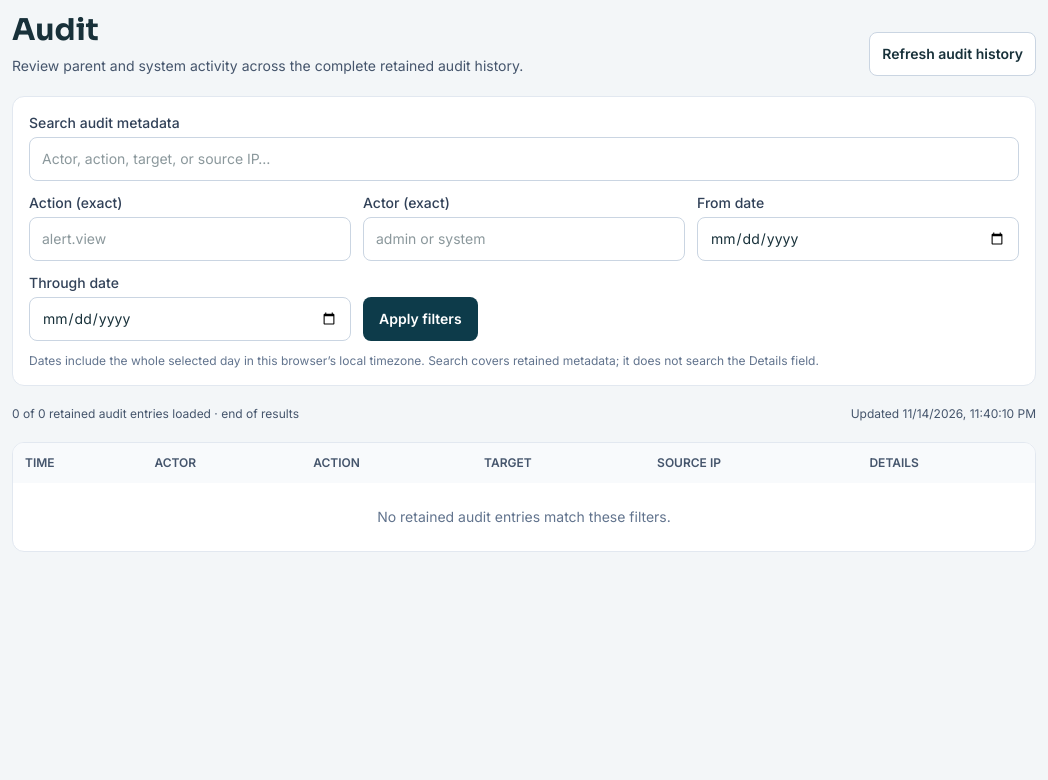
Test: complete audit history › never shows a late response from a superseded filter
Expected: the text "No retained audit entries match these filters." is shown, top-left (13, 483), bottom-right (1035, 551)
In the field labelled "Actor (exact)": (524, 239) top-left (363, 217), bottom-right (685, 261), type "old-actor"
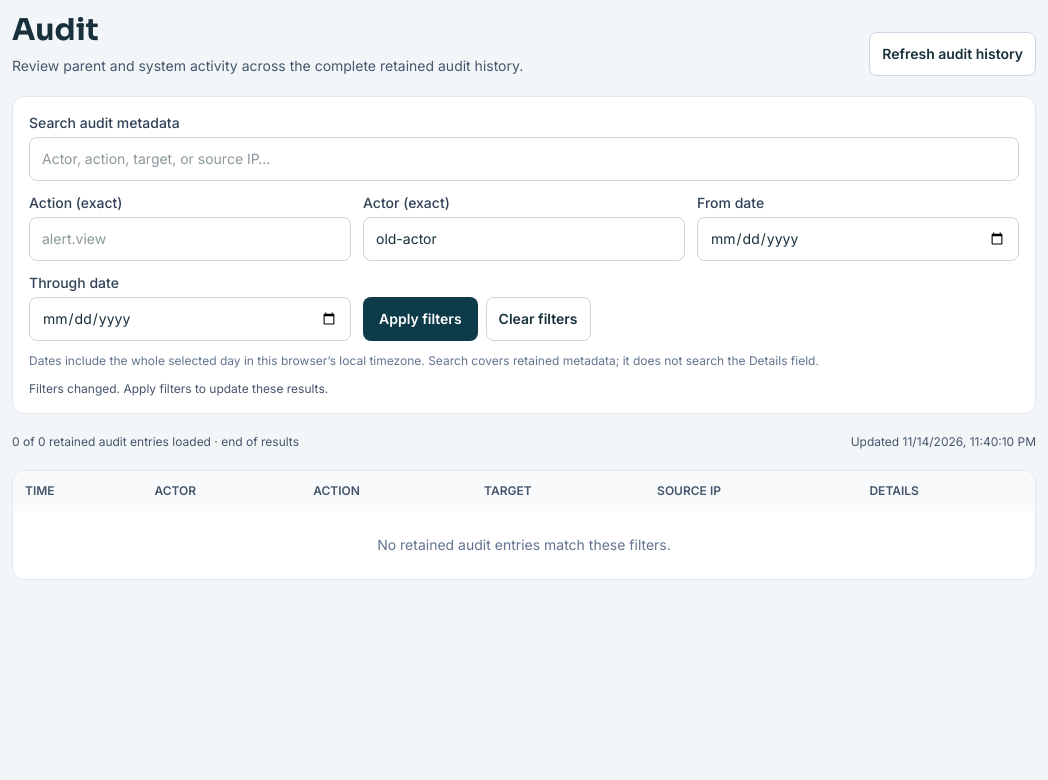
Click the button "Apply filters": (420, 319) top-left (363, 297), bottom-right (478, 341)
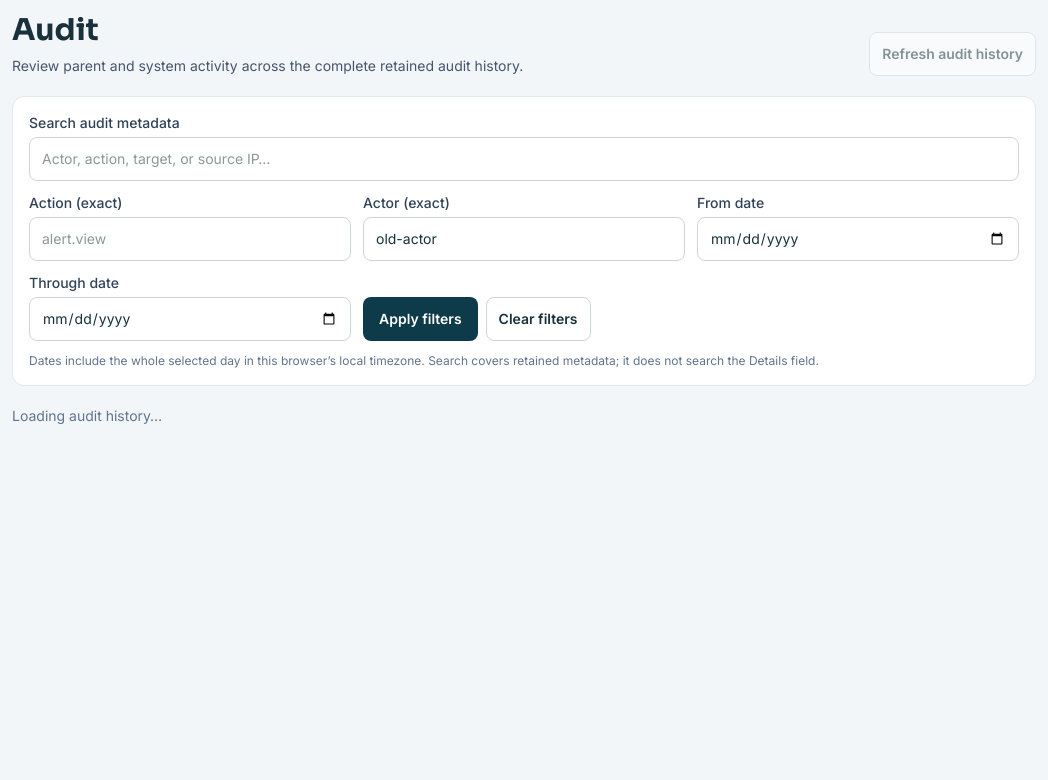
Result: the text "Loading audit history…" is shown at top-left (12, 407), bottom-right (162, 424)
Result: the text "No retained audit entries match these filters." is gone
Replace the text in the field labelled "Actor (exact)" with "new-actor": (524, 239) top-left (363, 217), bottom-right (685, 261)
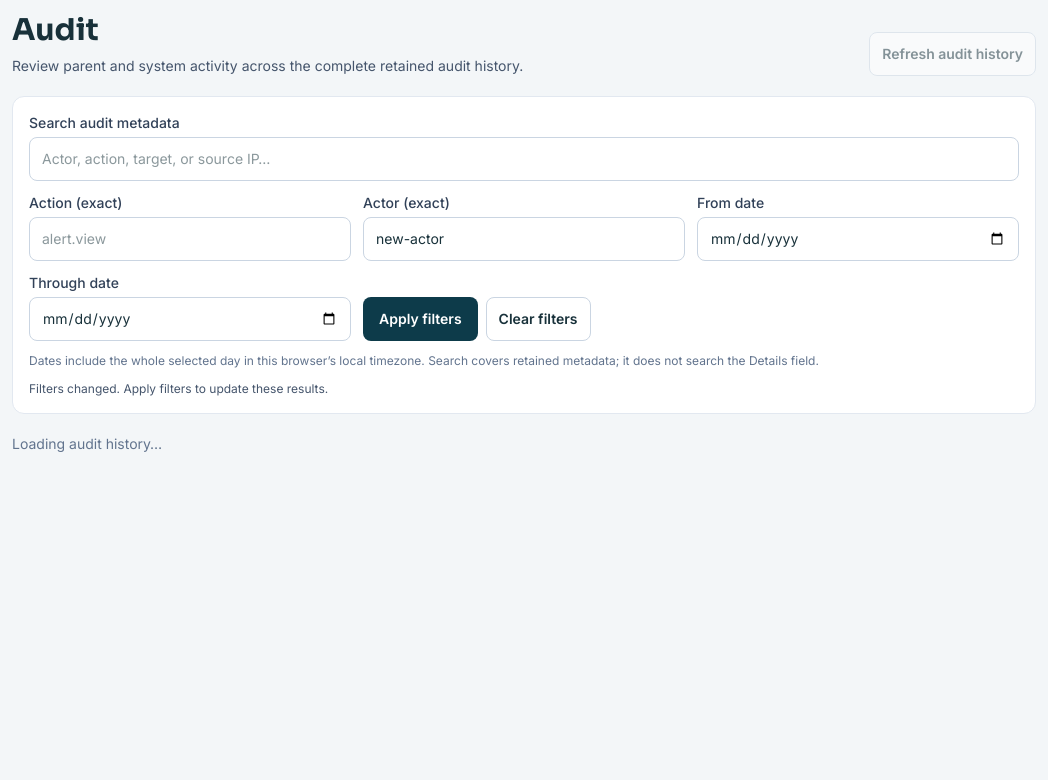
Click the button "Apply filters": (420, 319) top-left (363, 297), bottom-right (478, 341)
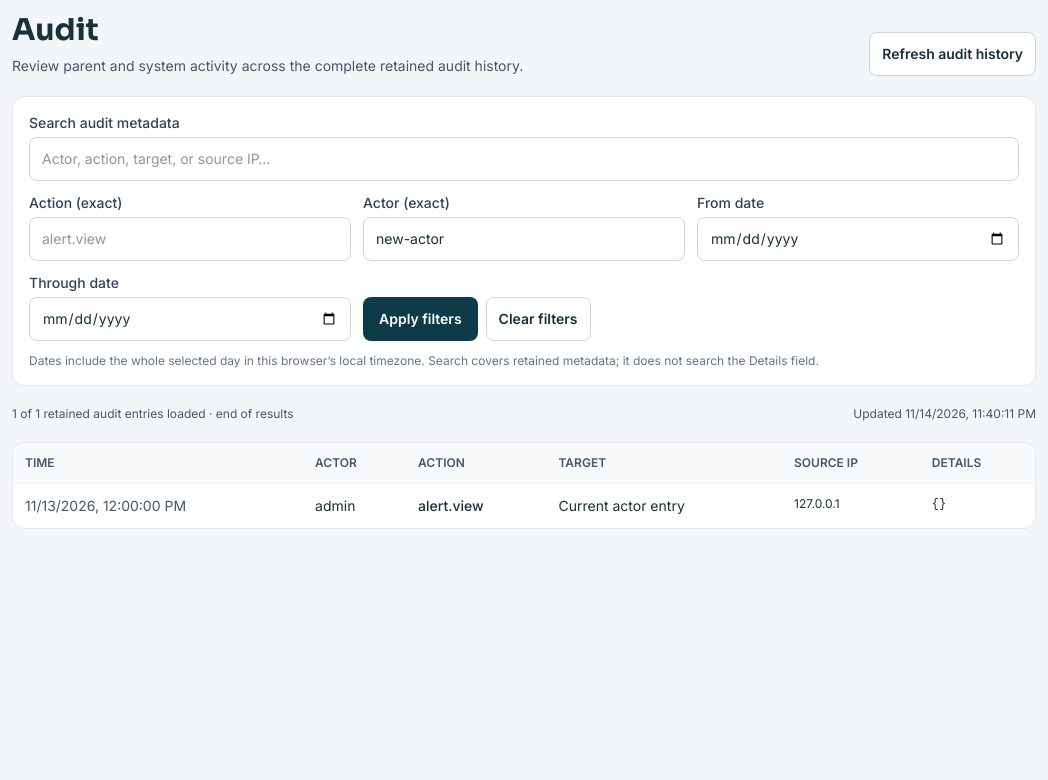
Result: the text "Current actor entry" is shown at top-left (546, 484), bottom-right (782, 528)
